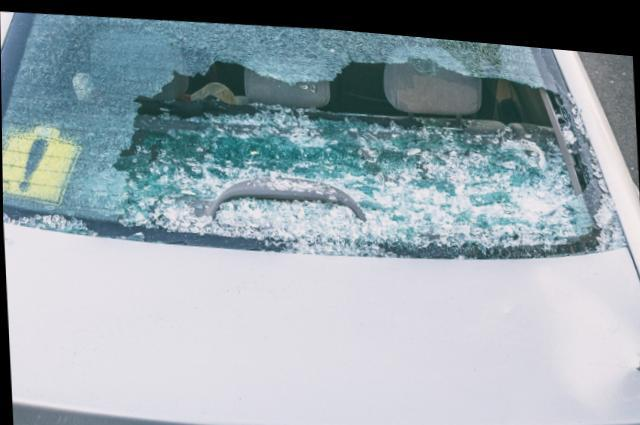crack: (634, 350, 640, 359)
glass shatter: (1, 12, 628, 250)
